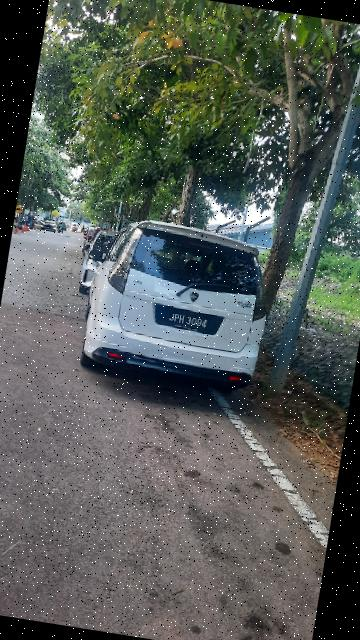License_Plate: (149, 303, 227, 339)
car: (71, 212, 281, 398)
